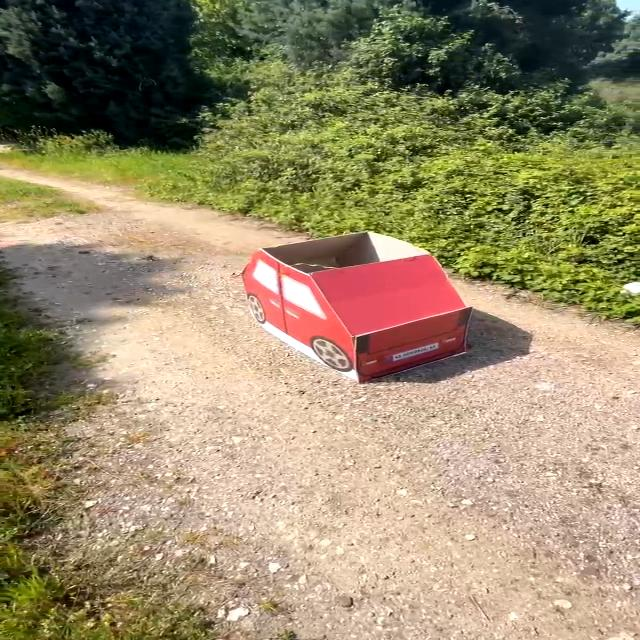red_car: (219, 226, 517, 399)
